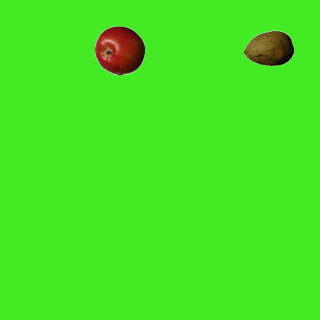Apple Braeburn: (94, 25, 144, 75)
Papaya: (243, 23, 293, 73)
